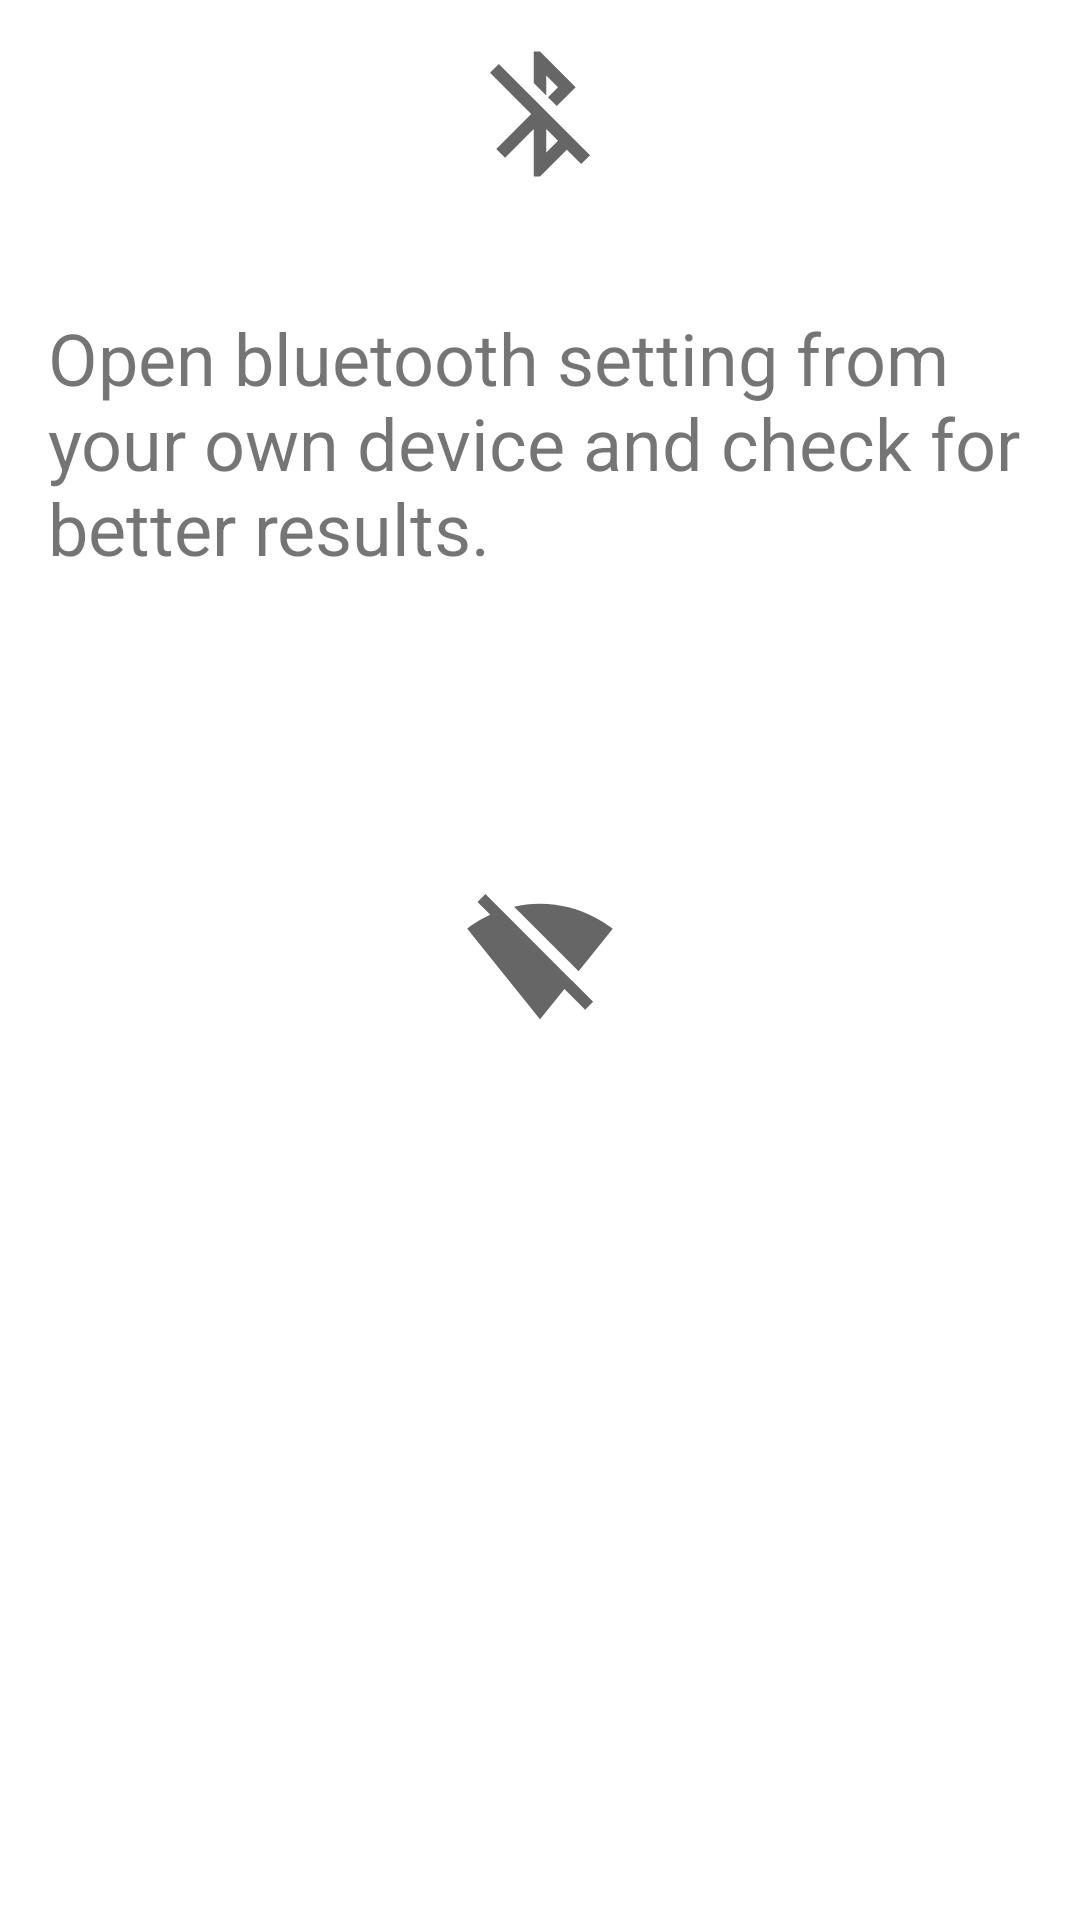

Where icons sit on this 1080 × 1920 app screen, as (x1, y1, x2, y2):
internet off: (467, 894, 613, 1019)
